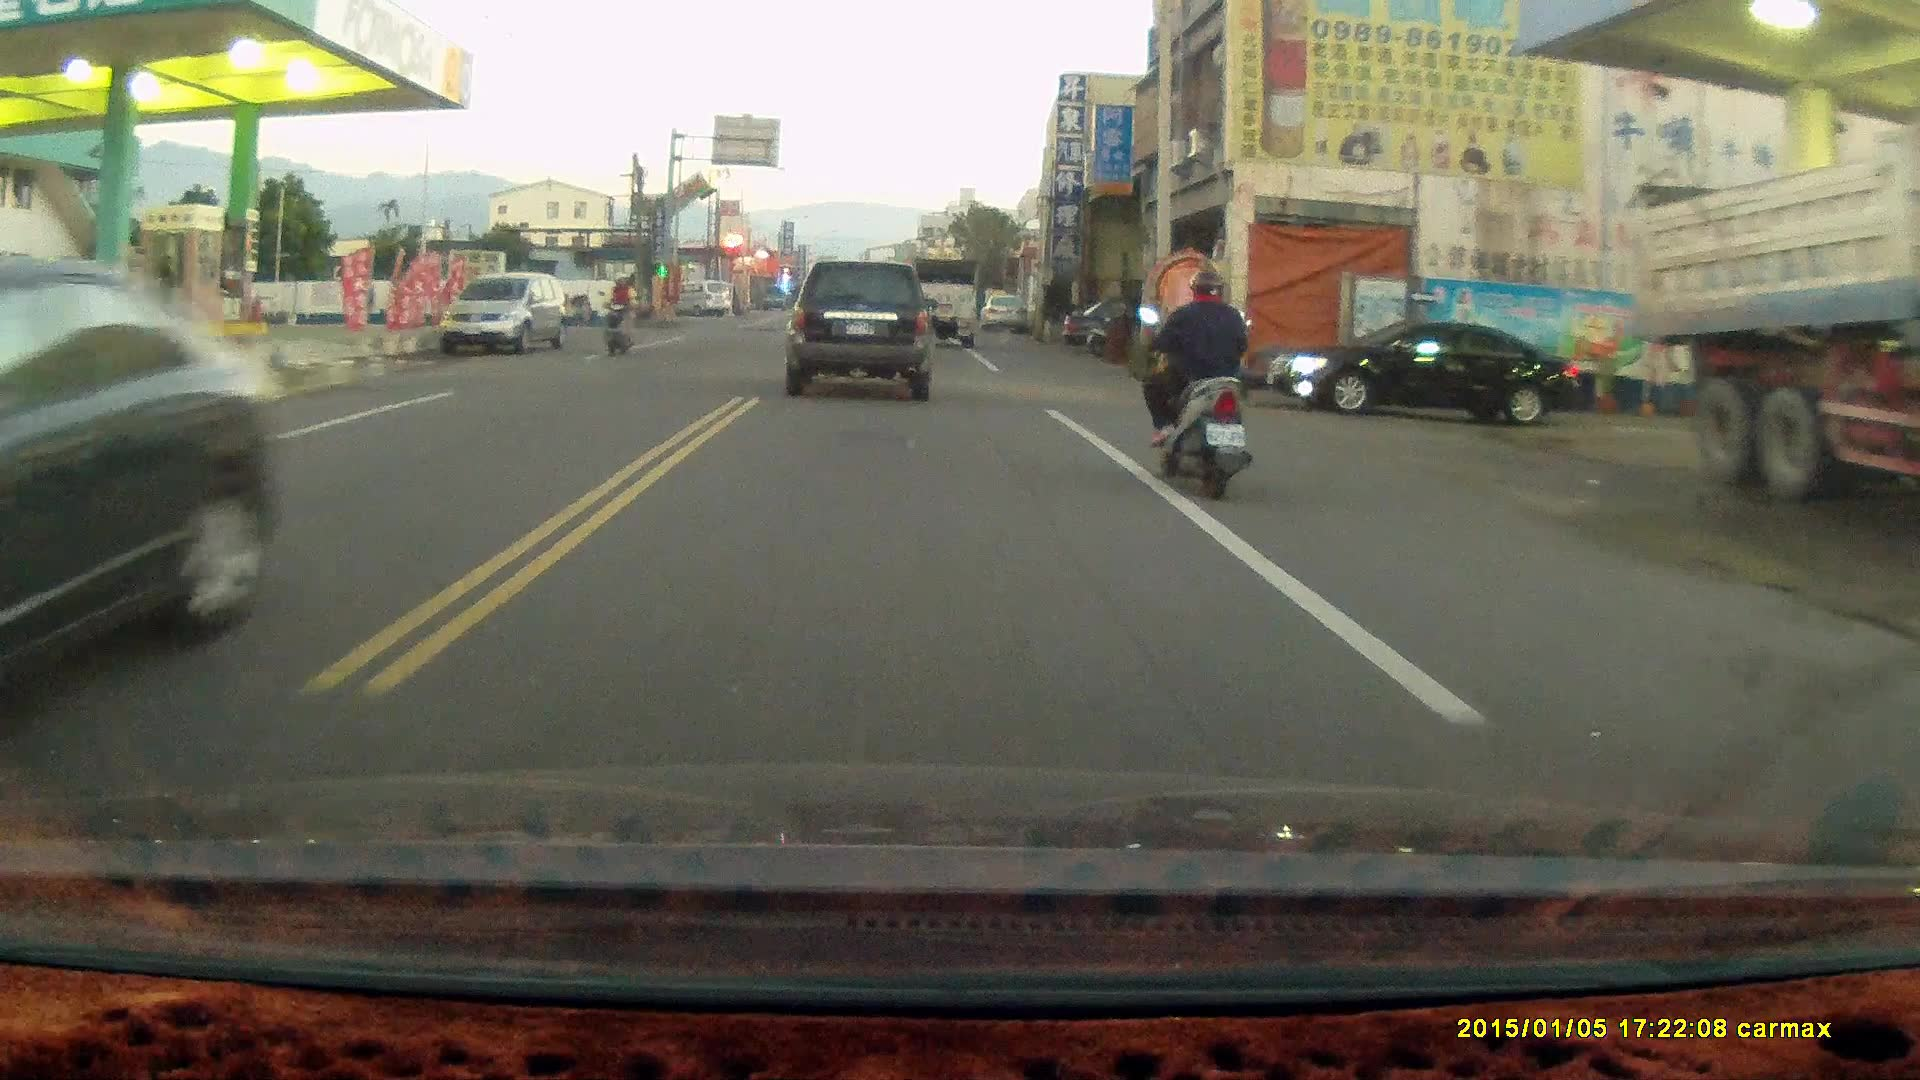rider: (1134, 270, 1249, 500), (594, 269, 635, 359)
vehicle: (1, 251, 285, 740), (1636, 127, 1920, 499), (1264, 322, 1596, 424), (790, 260, 937, 401), (441, 272, 566, 362), (903, 256, 980, 349)
